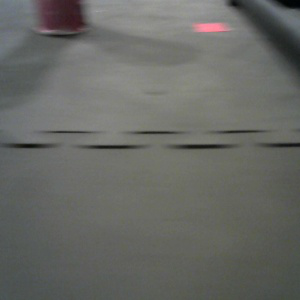Middle: (32, 1, 89, 36)
